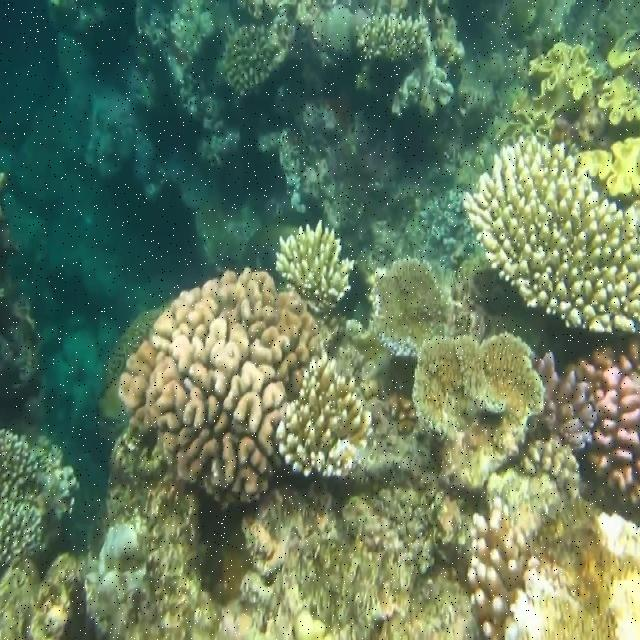reefs: (274, 219, 598, 451), (119, 267, 321, 511), (462, 136, 639, 334), (412, 330, 547, 491), (274, 348, 374, 479), (565, 337, 639, 491), (369, 256, 456, 357), (467, 496, 528, 639)
